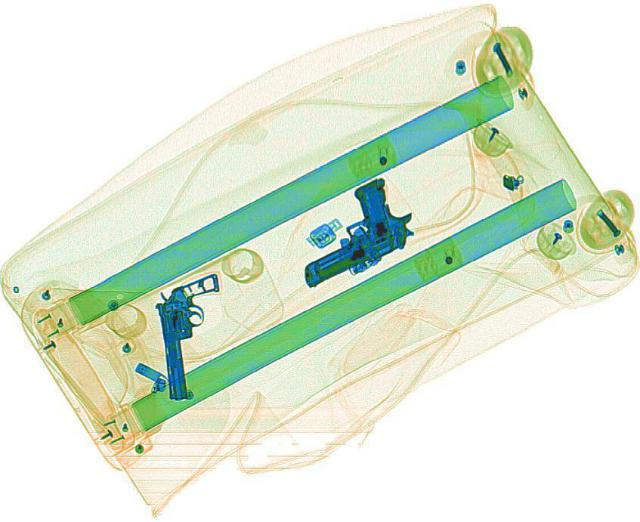Gun: (260, 173, 430, 289), (154, 269, 228, 396)
